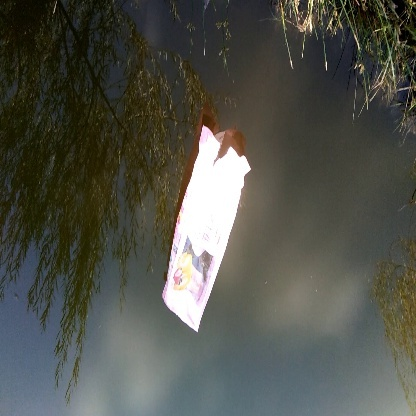plastic-bag: (156, 113, 270, 338)
